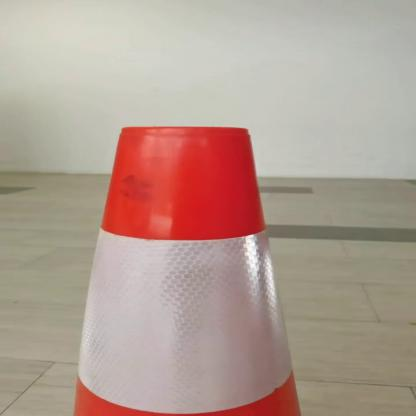cone: (51, 122, 319, 415)
